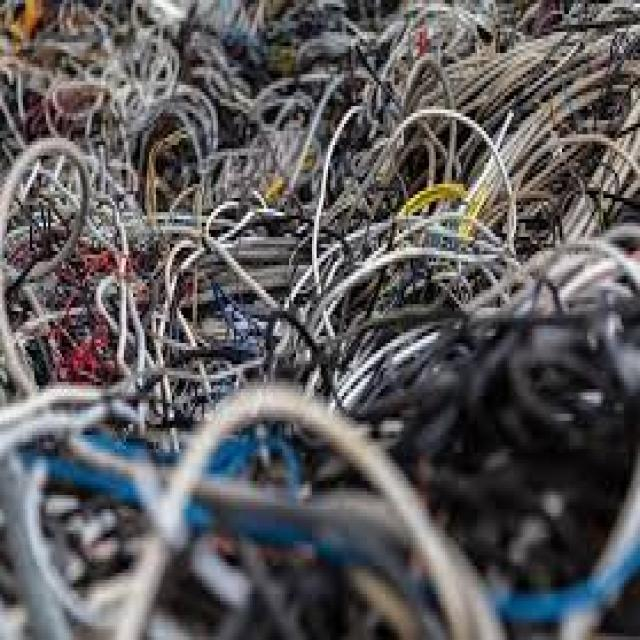Hazard: (3, 0, 603, 640)
